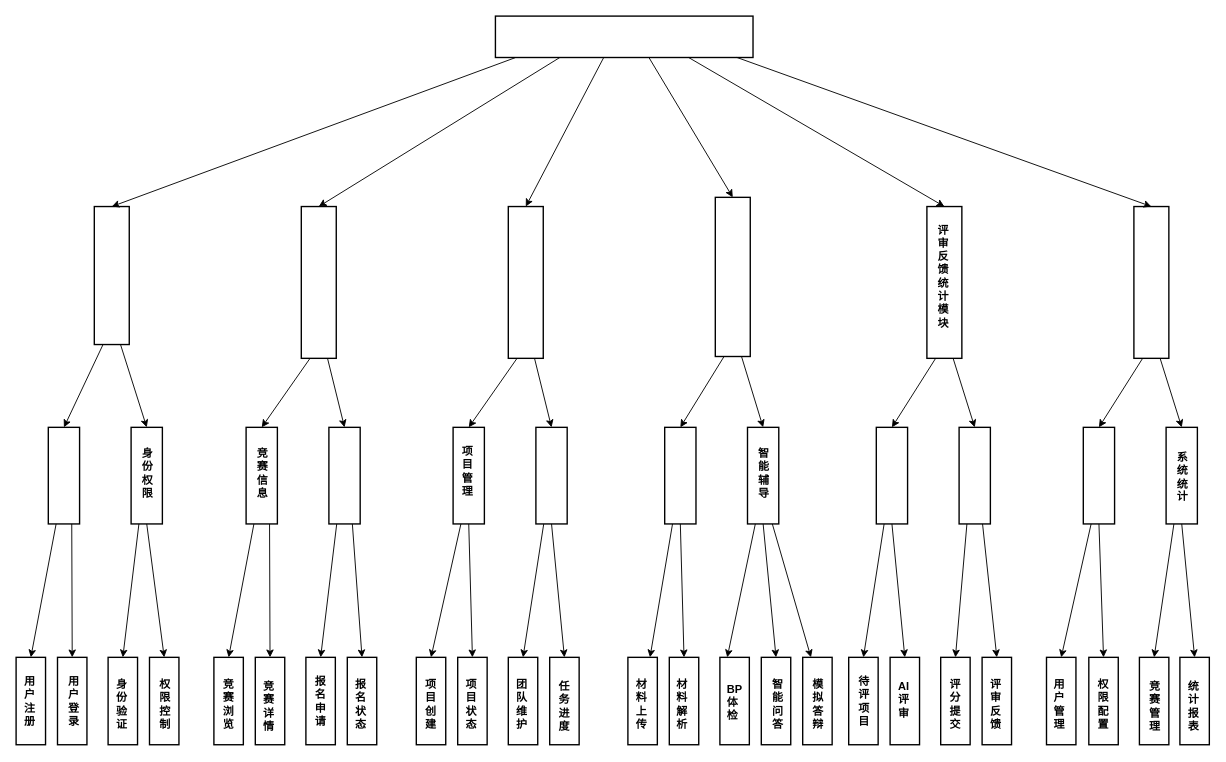
Some shapes in this 1226 by 762 pixel diagram are drawn without their labels. Each missing label, with the centre of its shape:
创新创业竞赛智能服务平台: point (623, 36)
反馈统计: point (974, 475)
团队任务: point (551, 475)
报名审核: point (344, 475)
材料上传与AI辅导模块: point (732, 276)
材料管理: point (680, 475)
注册登录: point (63, 475)
用户权限: point (1098, 475)
登 录 工 作 或 学 校 帐 户: point (111, 275)
竞赛报名管理模块: point (318, 282)
系统后台管理模块: point (1151, 282)
项目团队管理模块: point (525, 282)
项目评审: point (891, 475)
